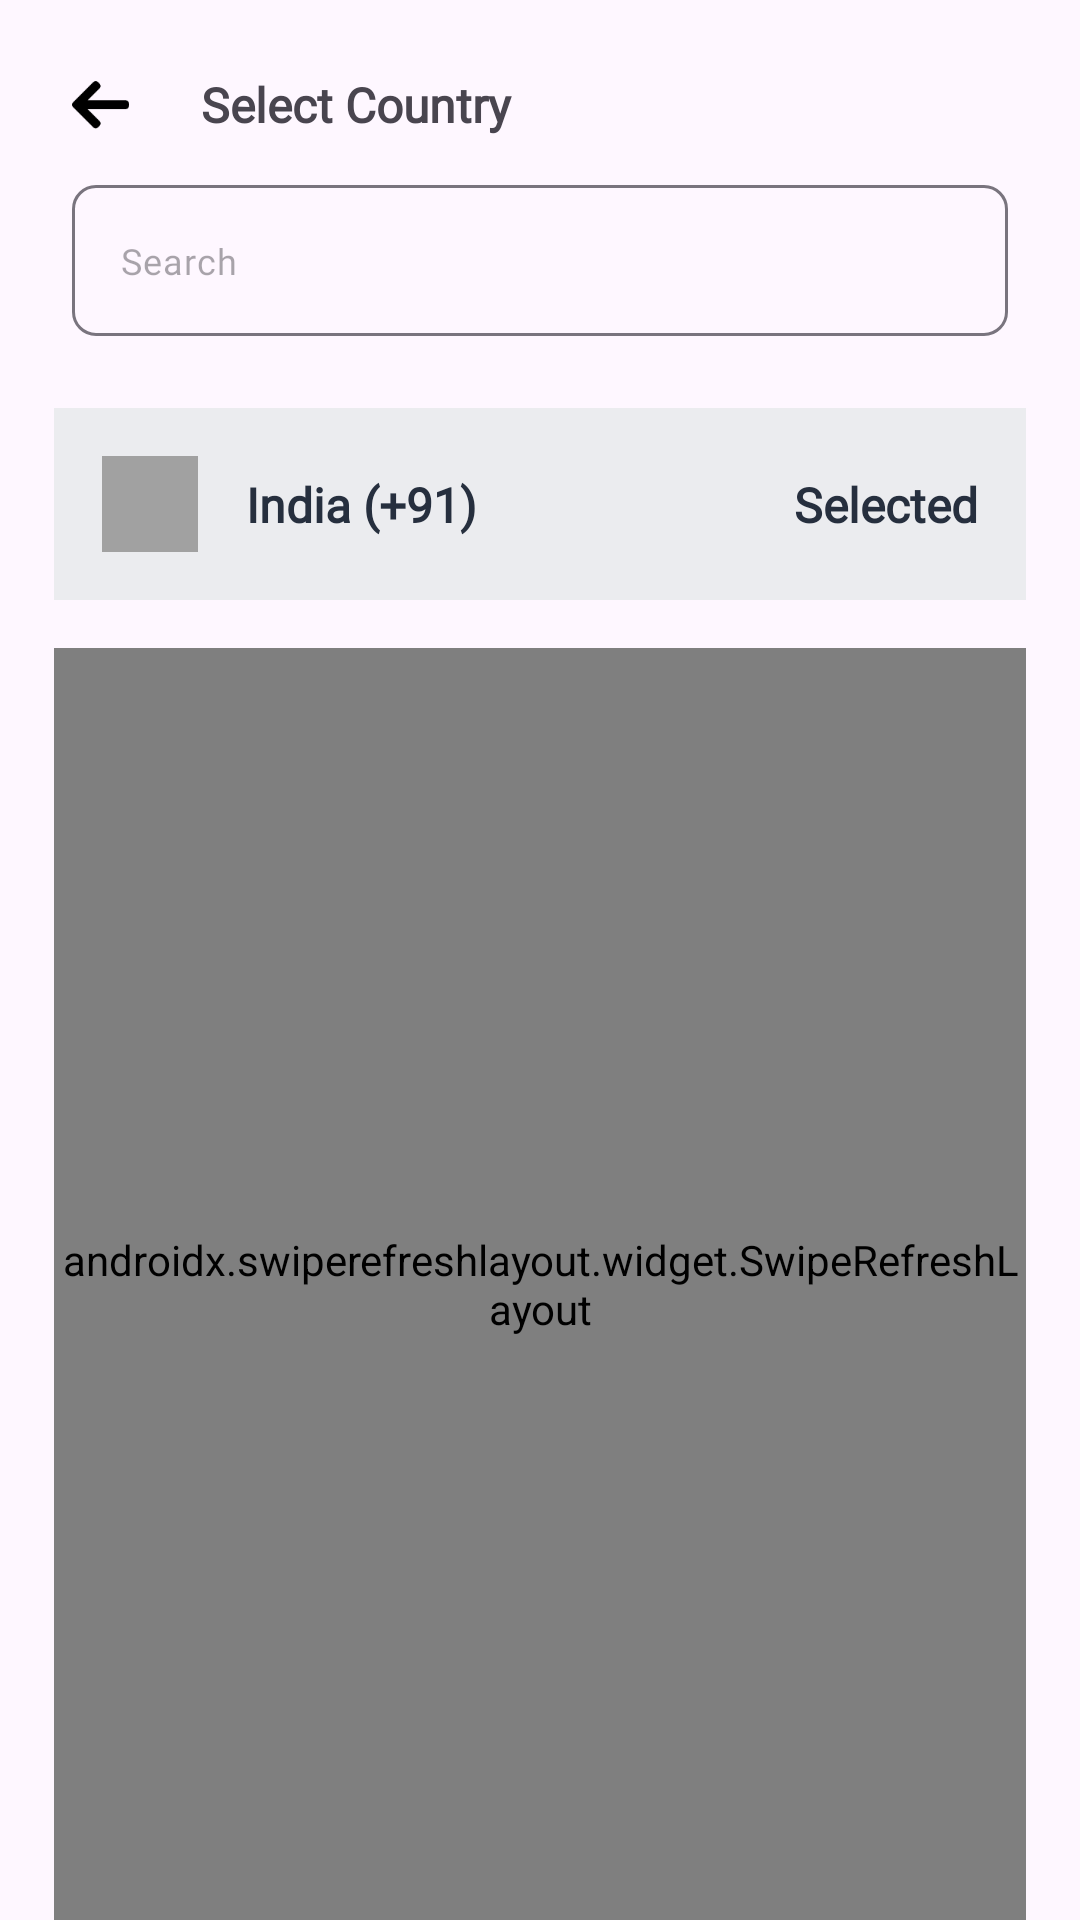

Screen size 1080x1920. Icon name, then its center in pixels as (x,y):
arrow: (100,105)
